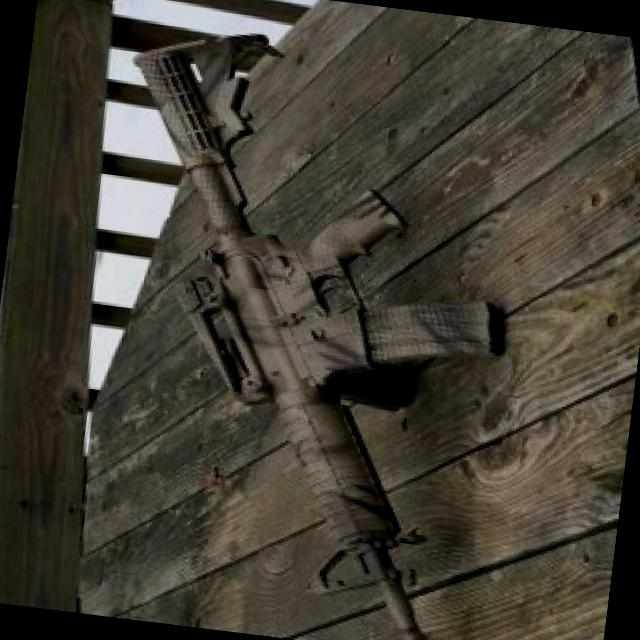long weapon: (76, 17, 566, 639)
